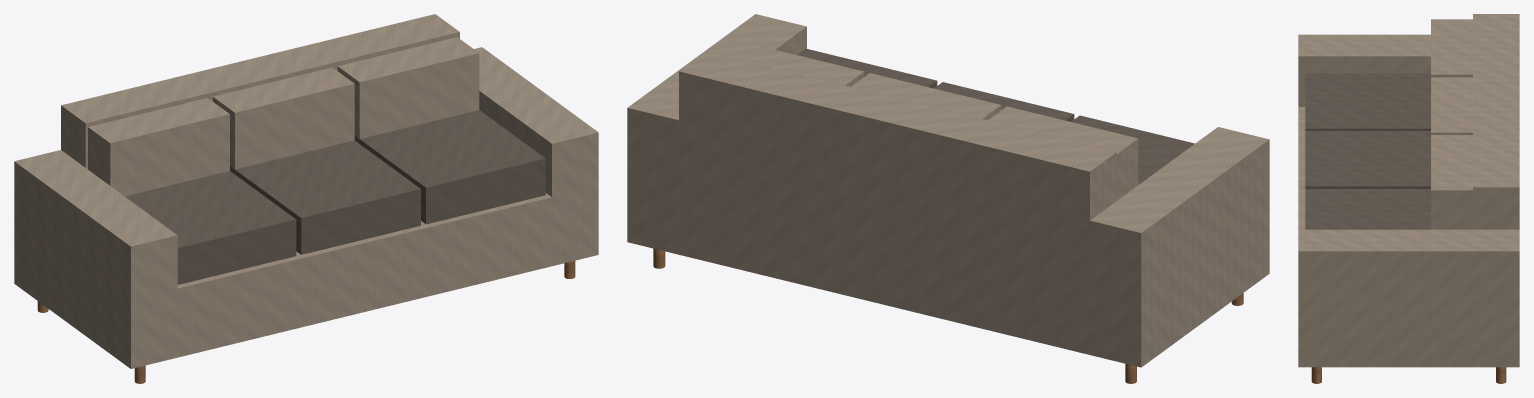
Rendered from sofa_rainbow.glb.
The picture shows the model from 3 angles, left to right: view 1: azimuth 30°, elevation 25°; view 2: azimuth 150°, elevation 25°; view 3: azimuth 270°, elevation 25°; orthographic projection. The views are drawn at different scales.
Parts seen in each view (by area): view 1: Sofa_Dana; view 2: Sofa_Dana; view 3: Sofa_Dana.
Part boxes in pixels (<box>): Sofa_Dana: <box>14,14,598,383</box>; Sofa_Dana: <box>627,14,1269,383</box>; Sofa_Dana: <box>1298,14,1519,383</box>.
Size of the model in its own units: 2.2 by 0.86 by 0.95.
Materials: 3 (3 with a texture image).
